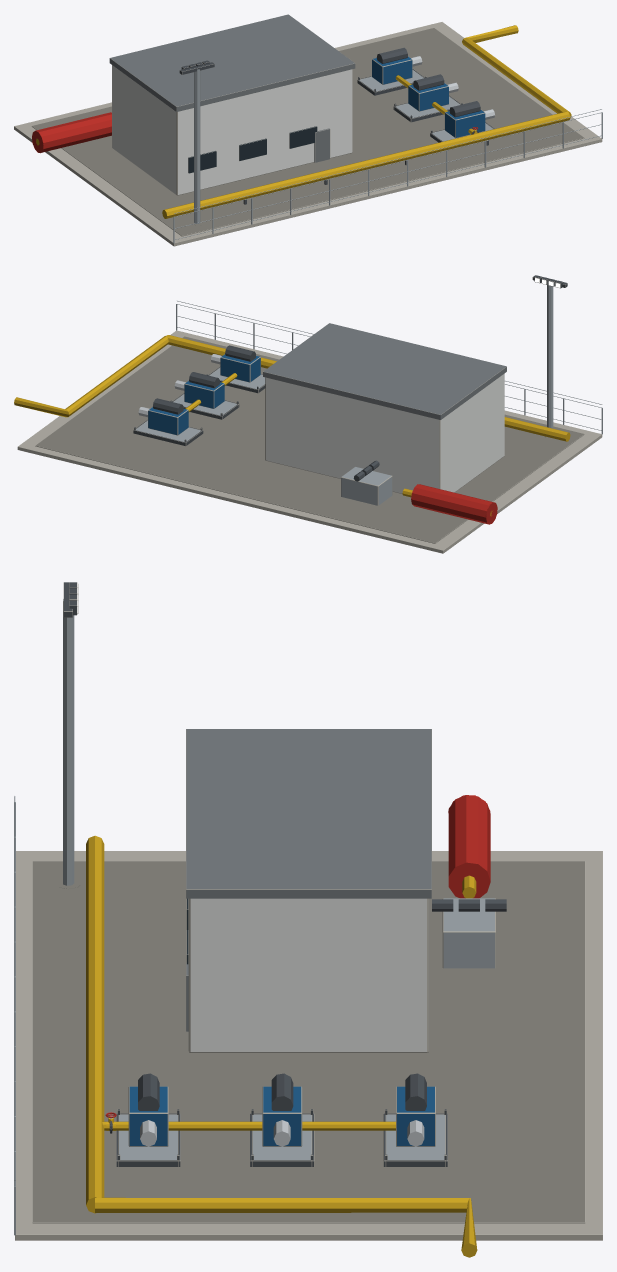
The model's file is mid_pump_station.glb.
3 views of the same model, one above another, from view 1: azimuth 30°, elevation 25°; view 2: azimuth 150°, elevation 25°; view 3: azimuth 270°, elevation 25° (orthographic). The views are drawn at different scales.
Visible parts, largest first — view 1: mid_pump_station; view 2: mid_pump_station; view 3: mid_pump_station.
Boxes of the visible parts, bbox=[...] form: mid_pump_station: bbox=[14, 14, 602, 246]; mid_pump_station: bbox=[14, 275, 602, 553]; mid_pump_station: bbox=[14, 582, 602, 1257].
Size of the model in its own units: 38 by 12.25 by 22.03.
